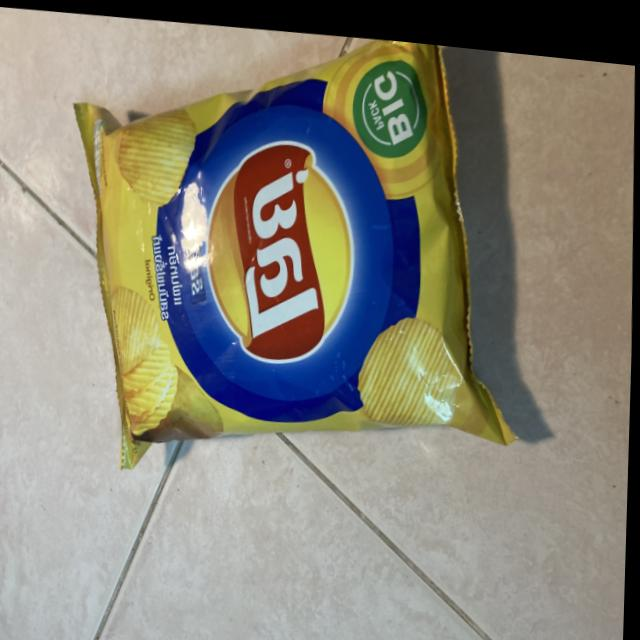LayYellow: (77, 11, 506, 476)
